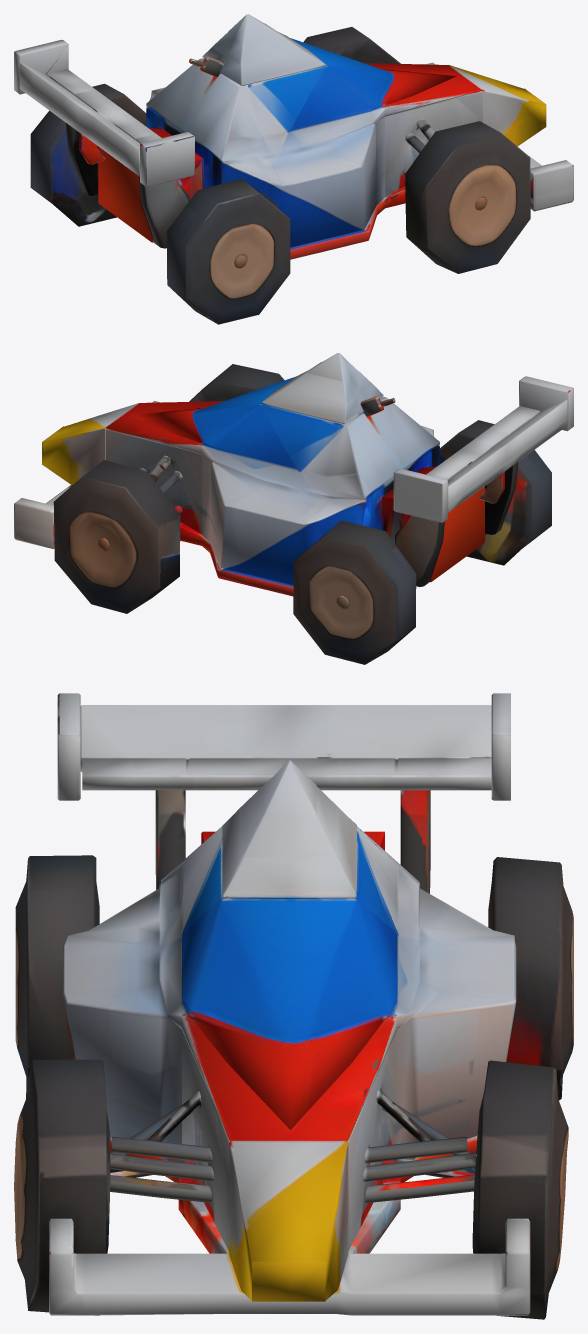
3 renders of one model, top to bottom at view 1: azimuth 30°, elevation 25°; view 2: azimuth 150°, elevation 25°; view 3: azimuth 270°, elevation 25°, orthographic. The views are drawn at different scales.
Visible parts, largest first — view 1: tripo_node_7796e798; view 2: tripo_node_7796e798; view 3: tripo_node_7796e798.
Boxes of the visible parts, left/top/right/bottom form: tripo_node_7796e798: left=14, top=14, right=573, bottom=324; tripo_node_7796e798: left=14, top=353, right=573, bottom=664; tripo_node_7796e798: left=14, top=693, right=573, bottom=1319.
Bounding box in the file's own units: 0.9466 × 0.4761 × 0.5859.
1 material, 1 textured.
